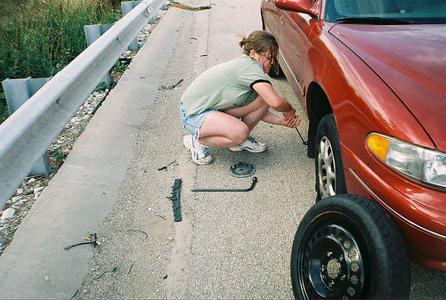person: (176, 30, 304, 170)
